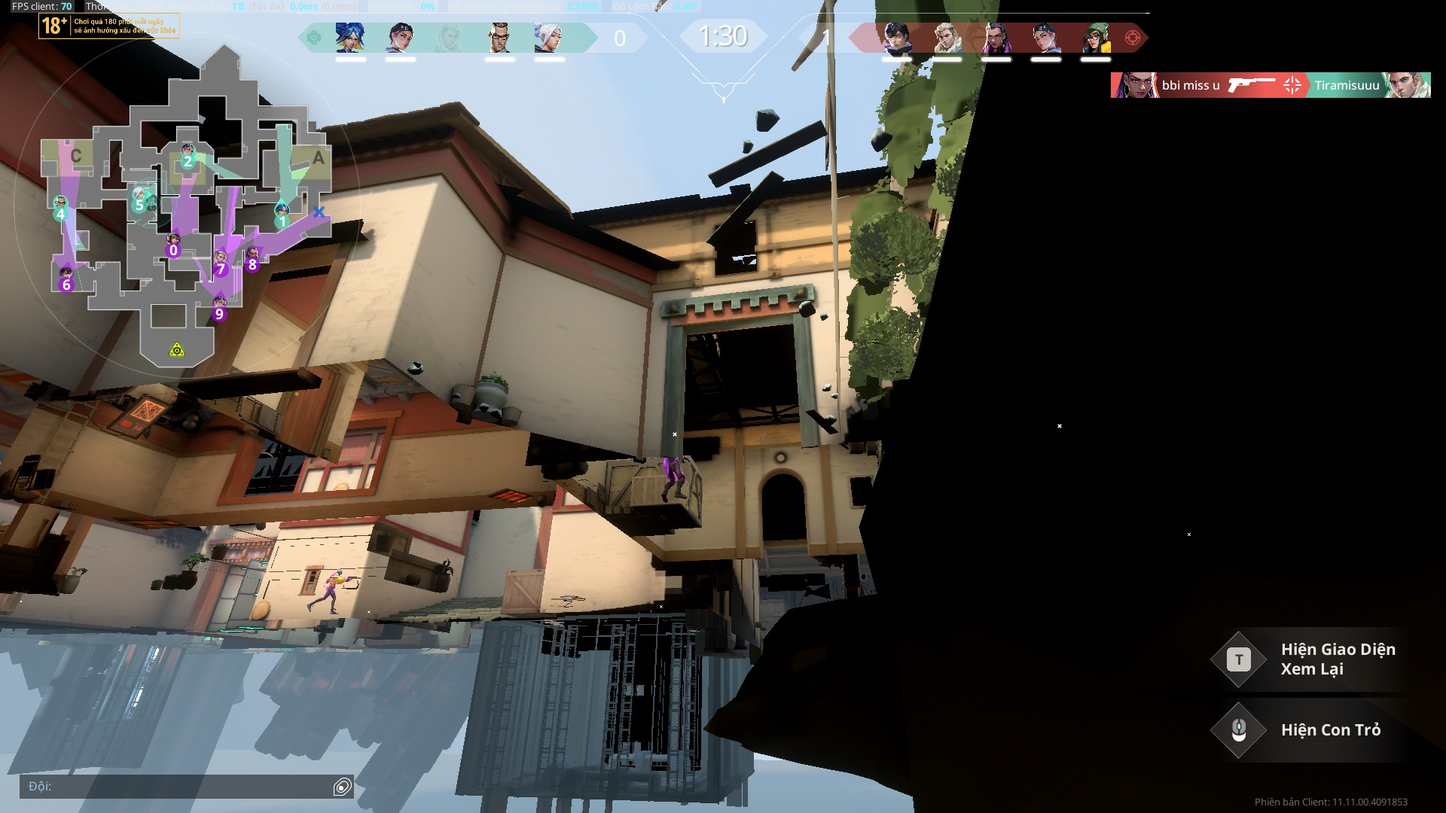body: (666, 455, 682, 467)
